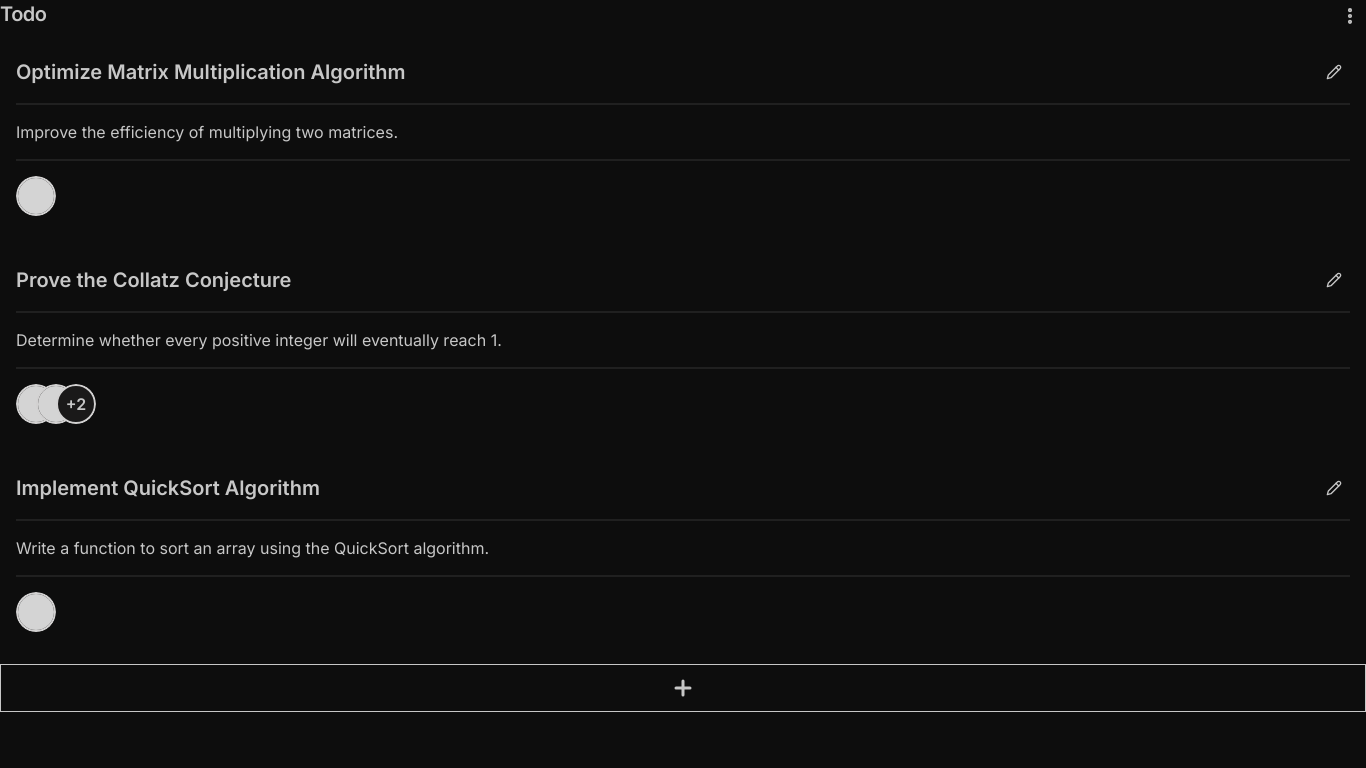
Test: TaskCardGroup › should be able to delete a task
Expected: the heading "Optimize Matrix Multiplication Algorithm" is shown, [16,60,406,84]
Click the button without text in the row of "Optimize Matrix Multiplication Algorithm" at (1334, 72), box [1318,56,1350,88]
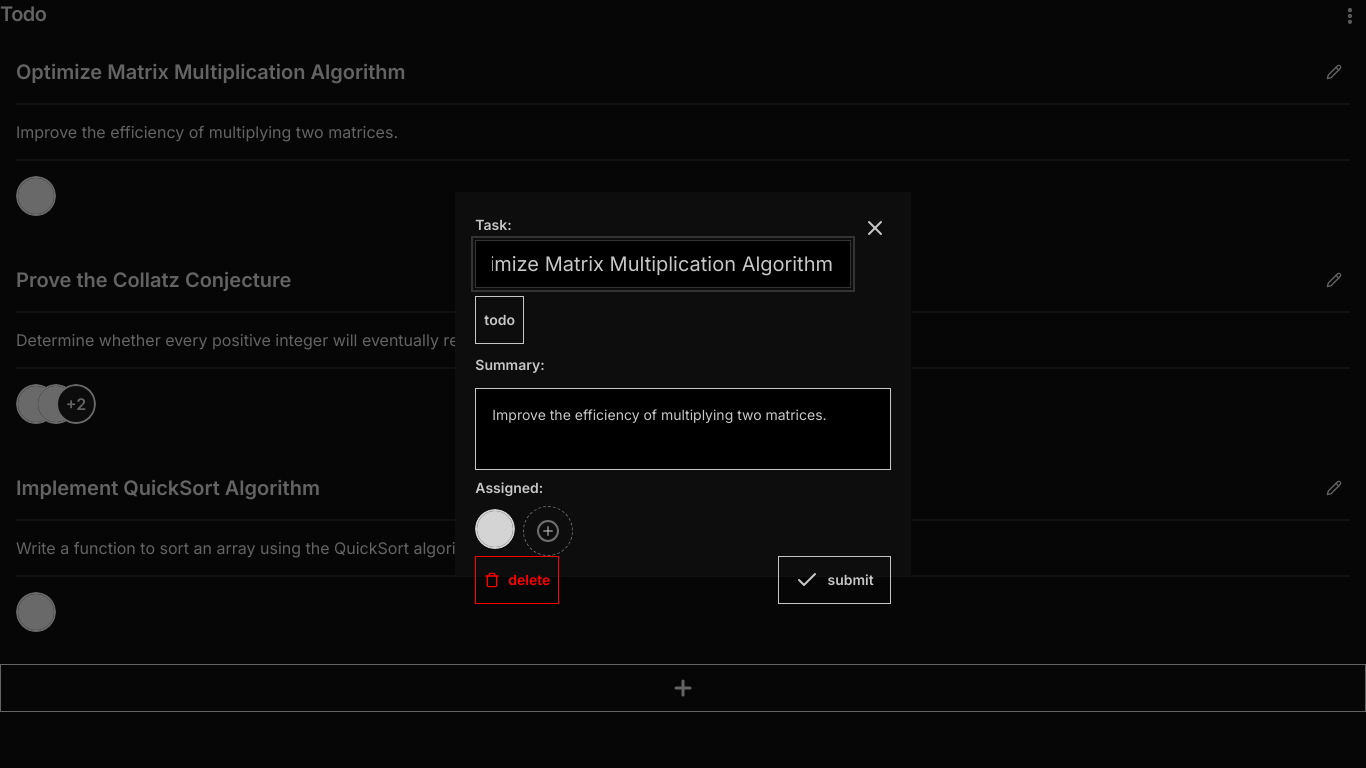
Click the button with aria-label "delete task" at (517, 580), box [475,556,559,604]
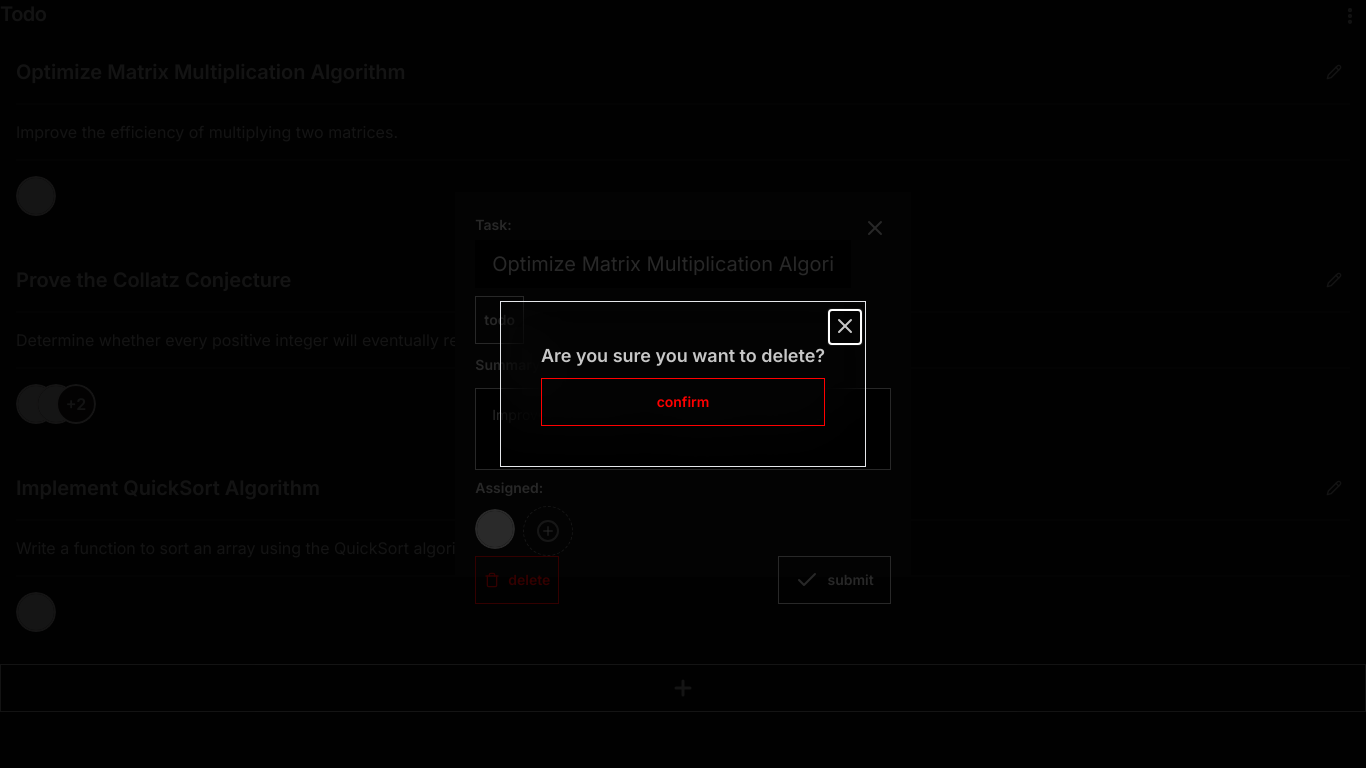
Result: the button with aria-label "confirm delete task" is shown
Click the button with aria-label "confirm delete task" at (683, 402), box [541,378,825,426]
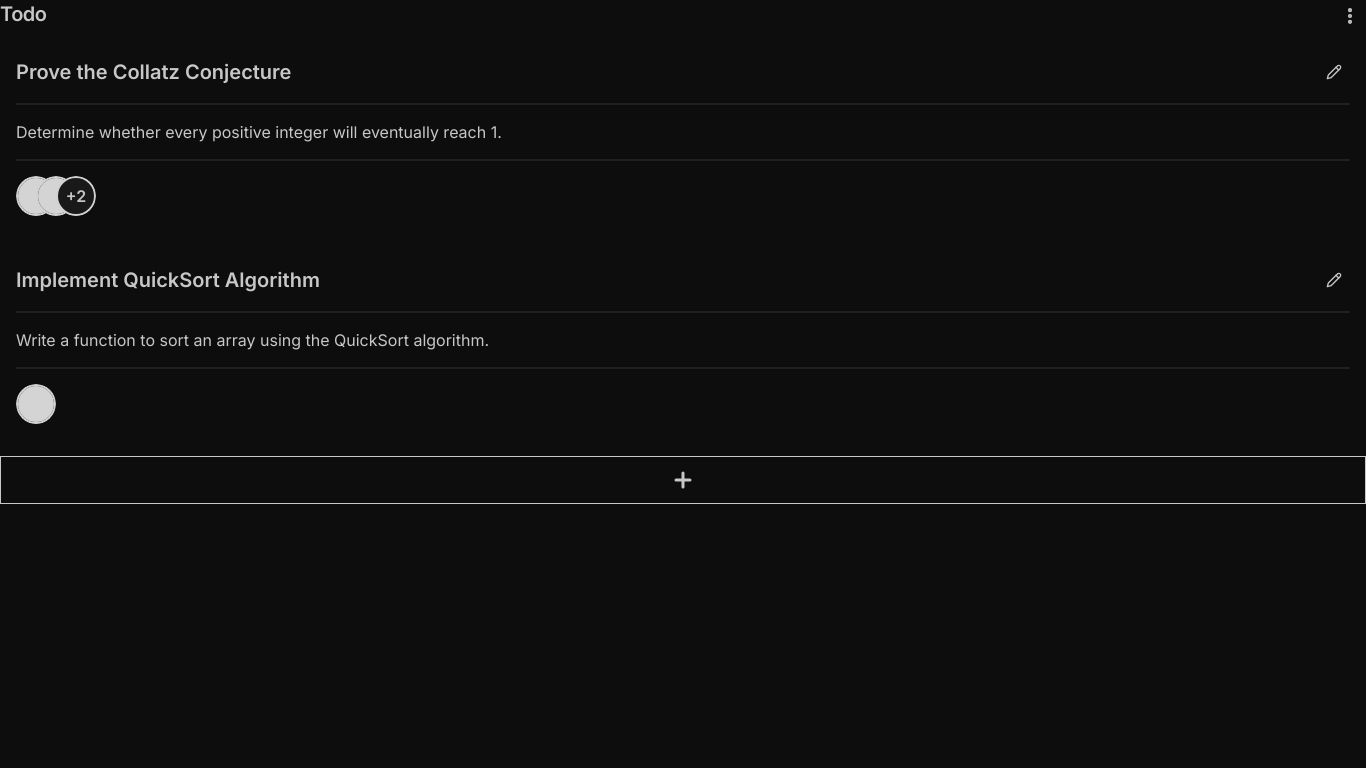
Result: the heading "Optimize Matrix Multiplication Algorithm" is gone
